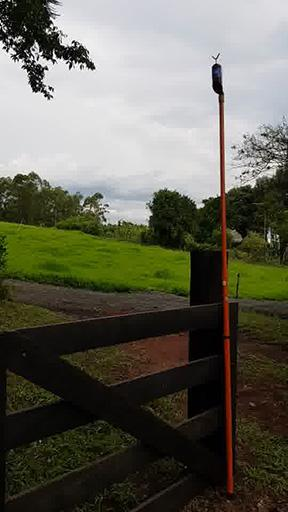Detector_Tensao_Contato: (210, 53, 224, 96)
Vara_Manobra: (217, 94, 236, 496)
